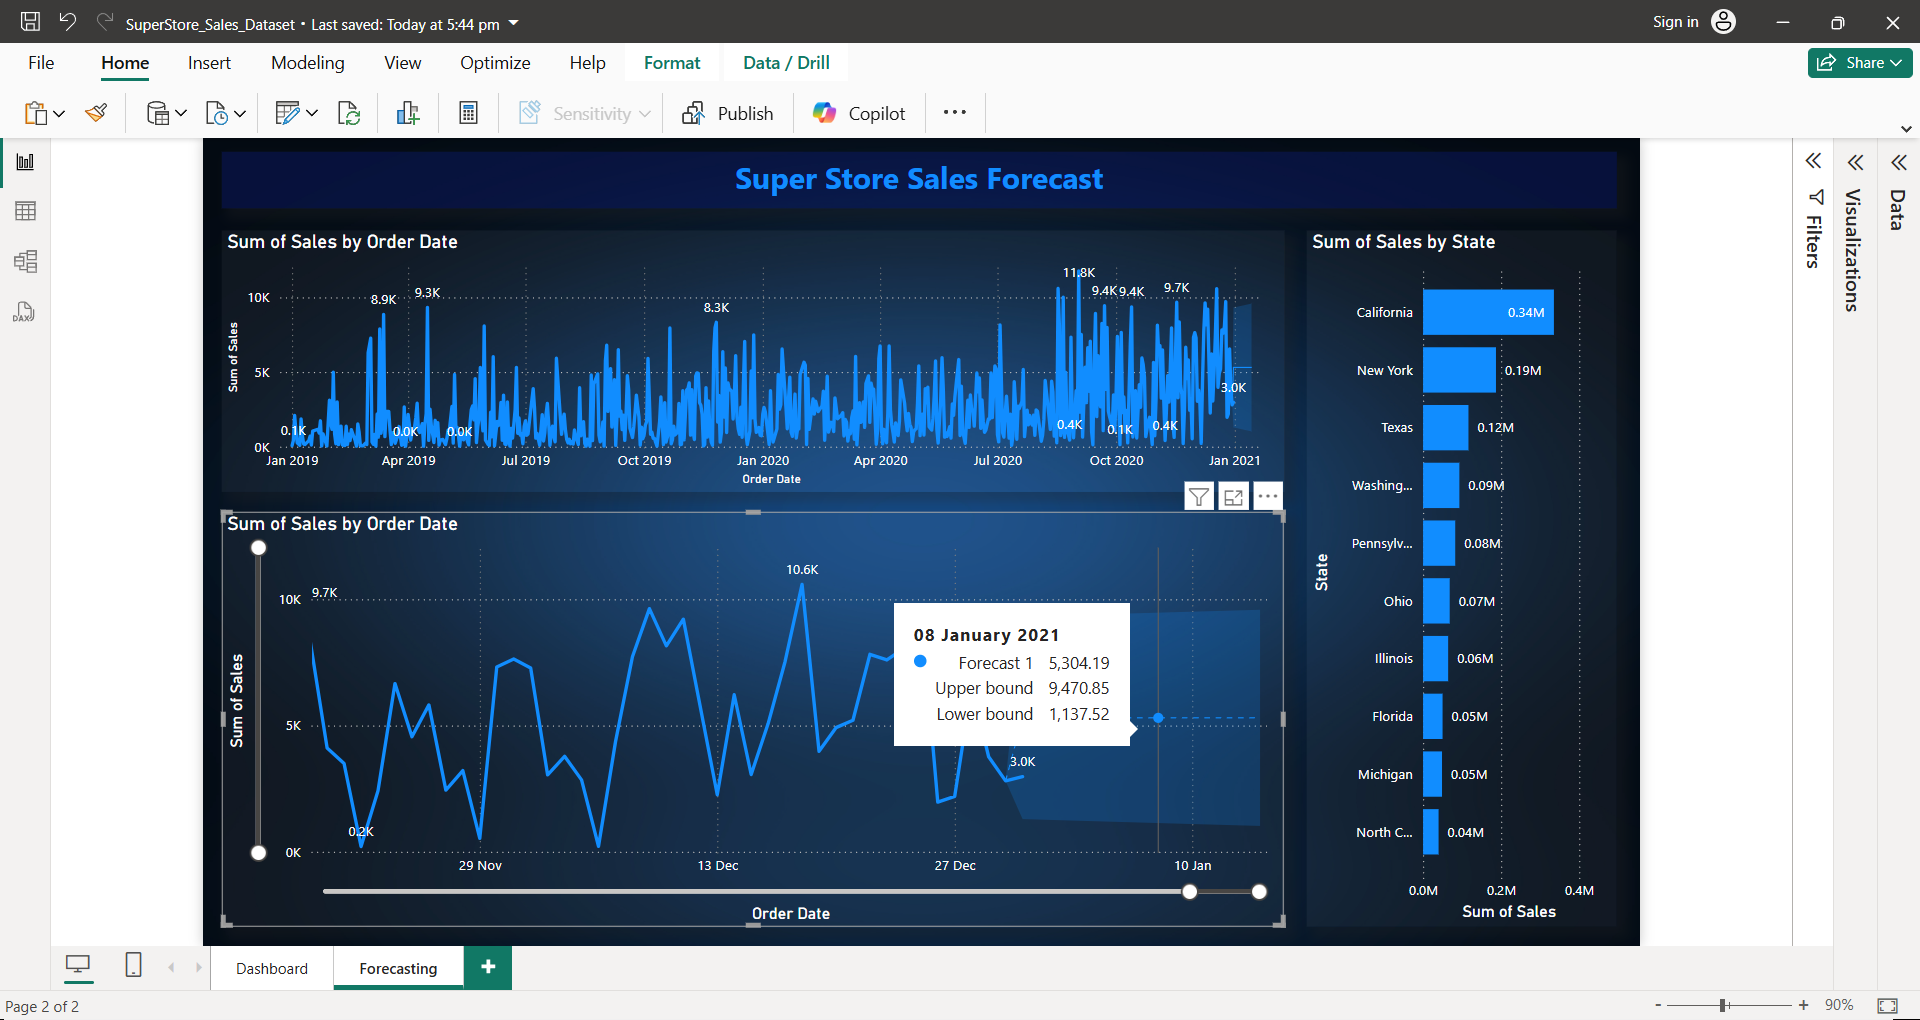

Layout of this report page (visuals, bound fields, positions):
{"tool":"powerbi","page":{"name":"Forecasting","canvas":[1280,720],"ordinal":1},"visuals":[{"type":"lineChart","fields":{"Y":["Sum(SuperStore_Sales_Dataset.Sales)"],"Category":["SuperStore_Sales_Dataset.Order Date"]},"box":[16.2,82.5,946.2,232.5],"z":0},{"type":"lineChart","fields":{"Y":["Sum(SuperStore_Sales_Dataset.Sales)"],"Category":["SuperStore_Sales_Dataset.Order Date"]},"box":[16.2,332.5,946.2,370],"z":1000},{"type":"textbox","box":[16.2,12.5,1242.5,50],"z":2000},{"type":"barChart","fields":{"Category":["SuperStore_Sales_Dataset.State"],"Y":["Sum(SuperStore_Sales_Dataset.Sales)"]},"box":[982.5,82.5,276.2,620],"z":2001}]}

Visuals, with their boxes on the page's 1280x720 design canvas (x1, y1, x2, y2). These are canvas units, not pixel positions in the 1920x1020 screenshot, which may show the page scaled, cropped or inside an application window:
lineChart - Sum(SuperStore_Sales_Dataset.Sales) x SuperStore_Sales_Dataset.Order Date: BBox(16, 82, 962, 315)
lineChart - Sum(SuperStore_Sales_Dataset.Sales) x SuperStore_Sales_Dataset.Order Date: BBox(16, 332, 962, 702)
textbox: BBox(16, 12, 1259, 62)
barChart - SuperStore_Sales_Dataset.State x Sum(SuperStore_Sales_Dataset.Sales): BBox(982, 82, 1259, 702)
